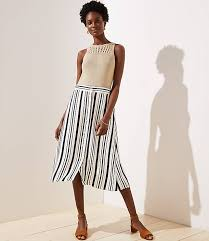C_skirt: (37, 82, 133, 190)
C_tank top: (73, 43, 126, 87)
